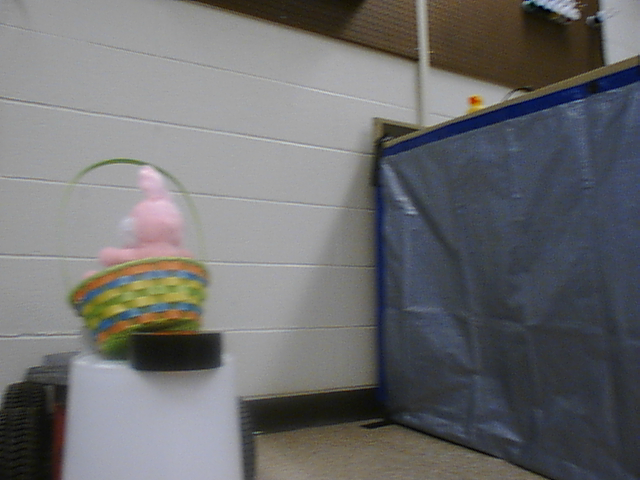bunny: (48, 160, 210, 371)
